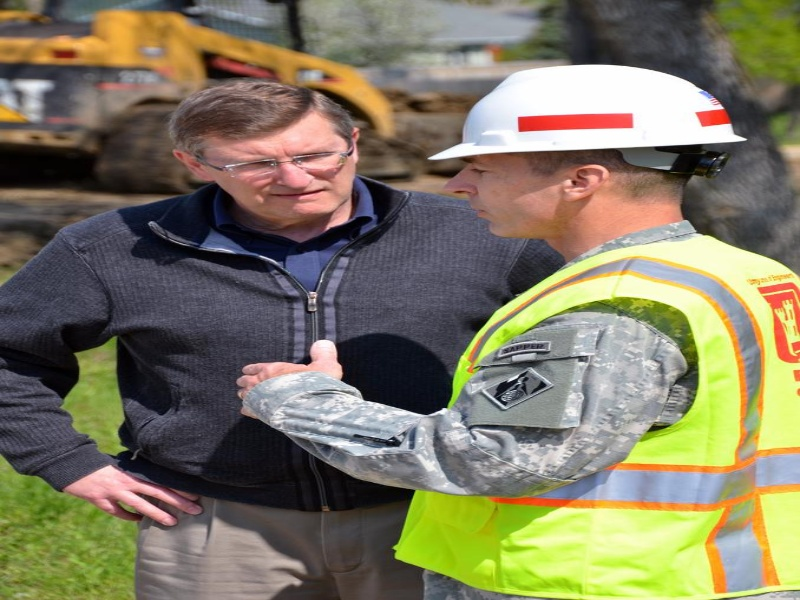helmet: (429, 64, 749, 175)
jacket: (454, 243, 800, 594)
